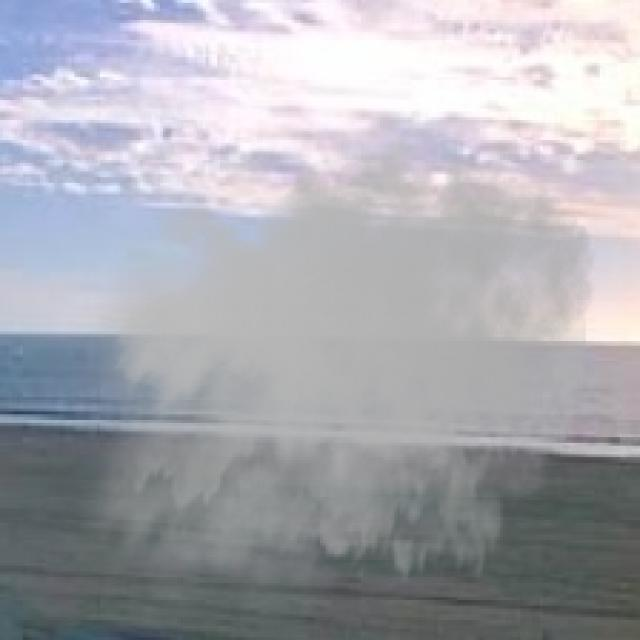smoke: (66, 117, 600, 637)
